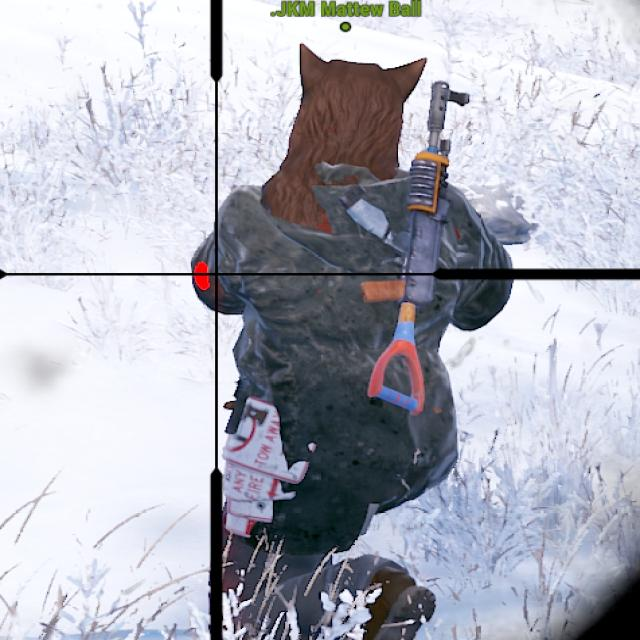Player: (224, 44, 514, 640)
